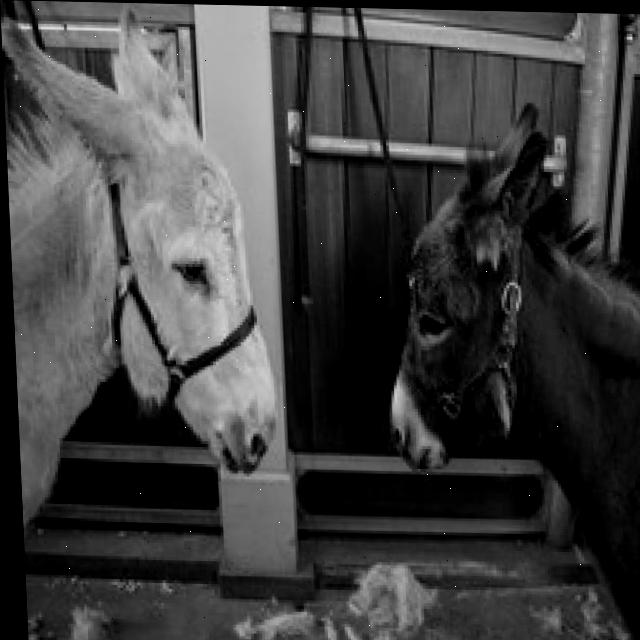Donkey: (0, 0, 285, 640), (373, 97, 640, 640)
